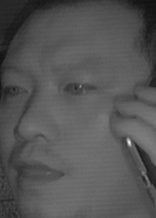eye: (61, 76, 96, 99), (2, 79, 30, 99)
mouth: (8, 148, 71, 190)
